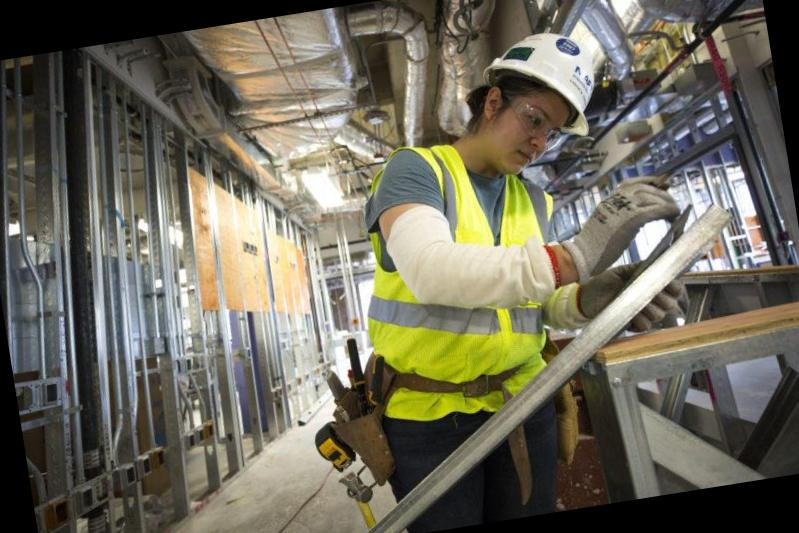Vest: (344, 115, 594, 416)
